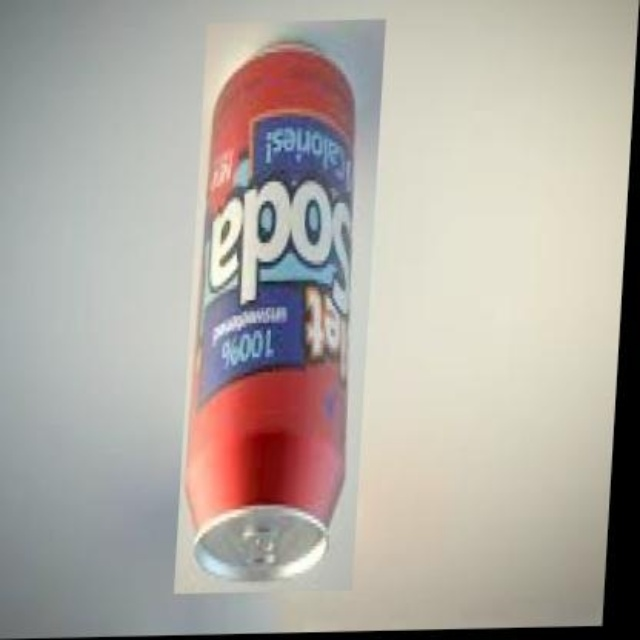trash: (185, 43, 354, 580)
